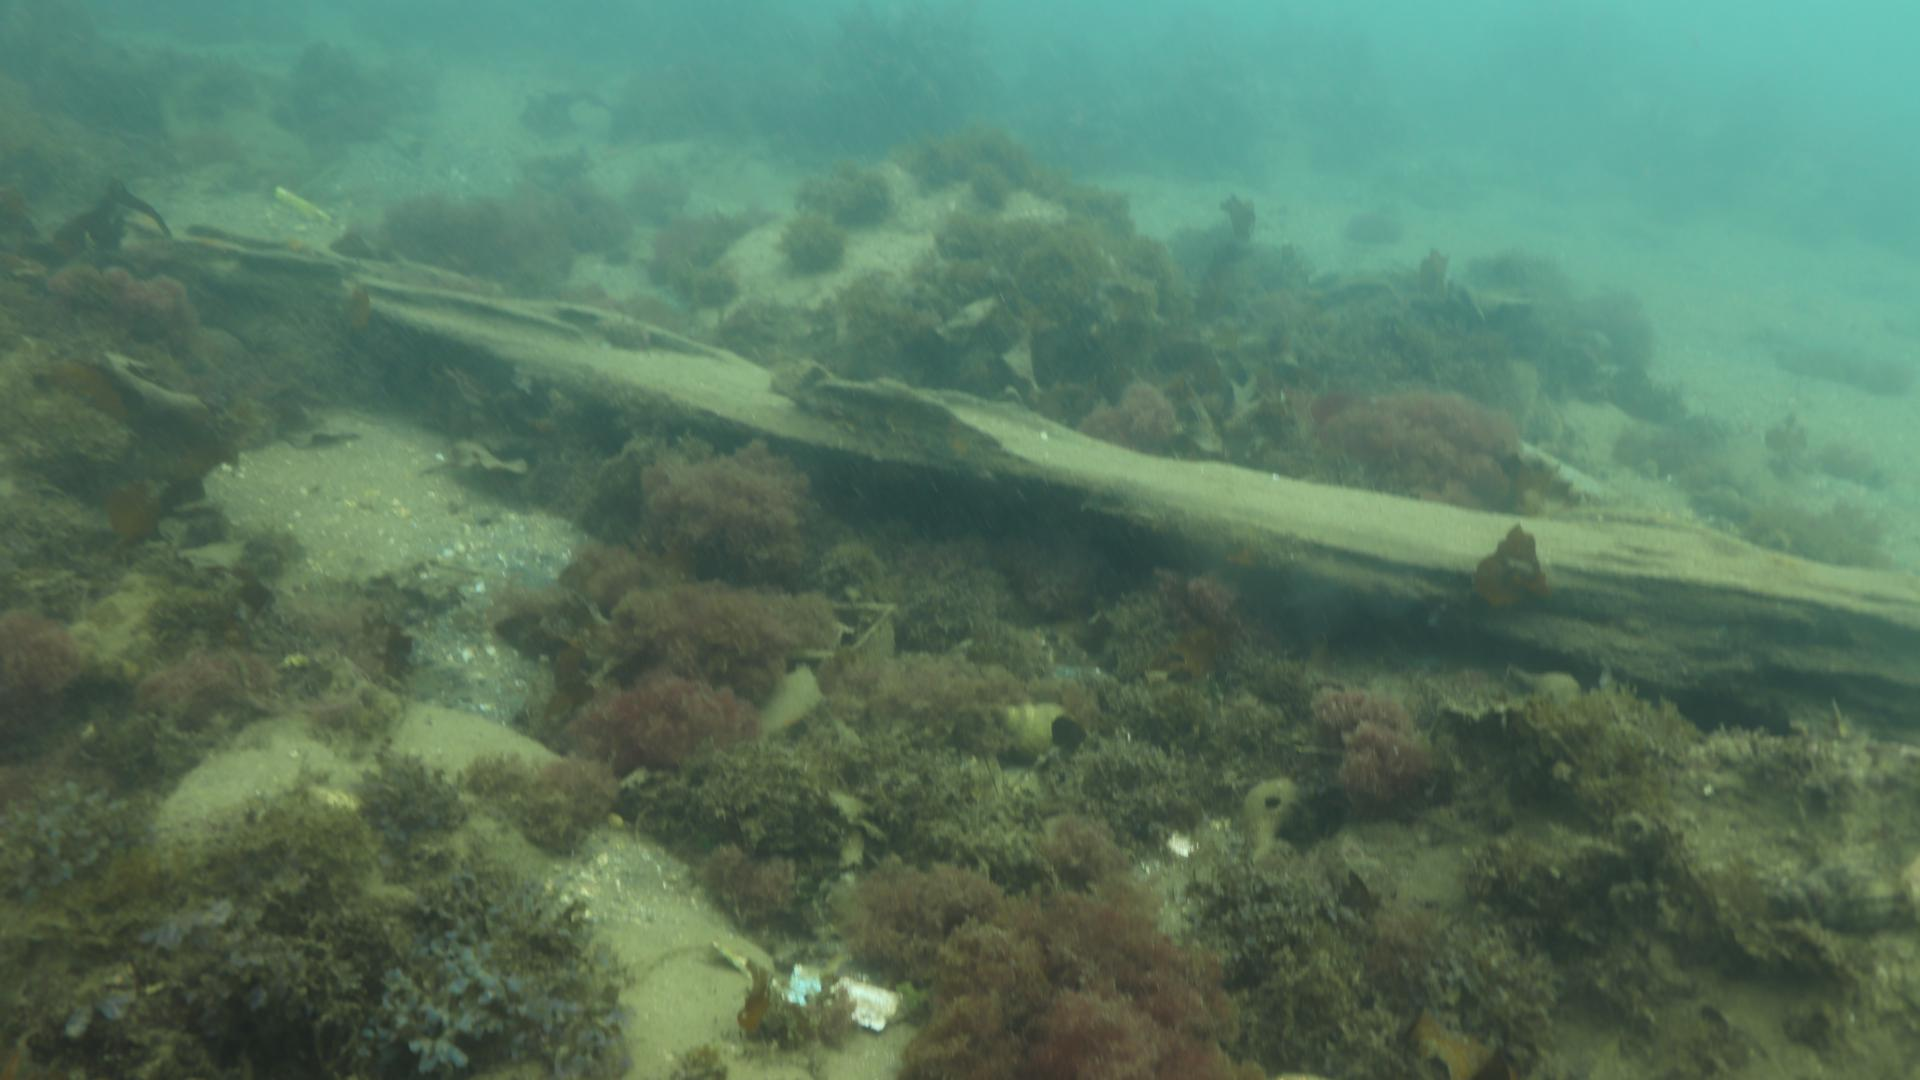wood: (342, 273, 1920, 746)
